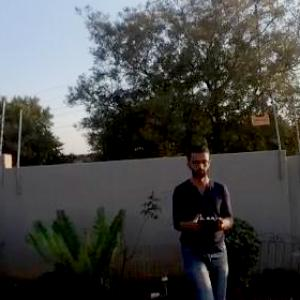follow: (165, 149, 238, 299)
